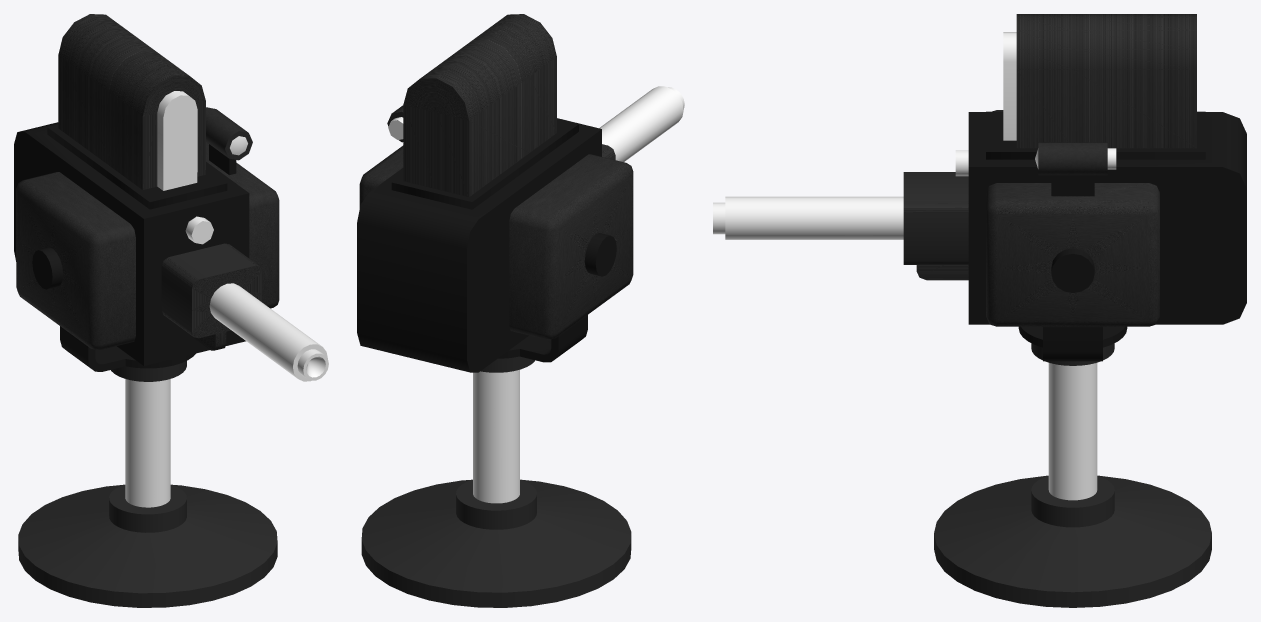
File: turrets.dae
3 views of the same model, side by side, from view 1: azimuth 30°, elevation 25°; view 2: azimuth 150°, elevation 25°; view 3: azimuth 270°, elevation 25° (orthographic). The views are drawn at different scales.
Visible parts, largest first — view 1: turret_head_default, turret_plate_base, turret_plate_support; view 2: turret_head_default, turret_plate_base, turret_plate_support; view 3: turret_head_default, turret_plate_base, turret_plate_support.
Boxes of the visible parts, box(x1,y1,x2,y2) form: turret_head_default: box(14, 14, 328, 381); turret_plate_base: box(18, 379, 277, 607); turret_plate_support: box(60, 326, 195, 381); turret_head_default: box(357, 14, 684, 372); turret_plate_base: box(361, 369, 631, 607); turret_plate_support: box(481, 315, 587, 372); turret_head_default: box(713, 14, 1246, 326); turret_plate_base: box(934, 363, 1211, 607); turret_plate_support: box(1018, 326, 1127, 365).
Size of the model in its own units: 0.64 by 1.23 by 1.35.
3 materials, 1 textured.
